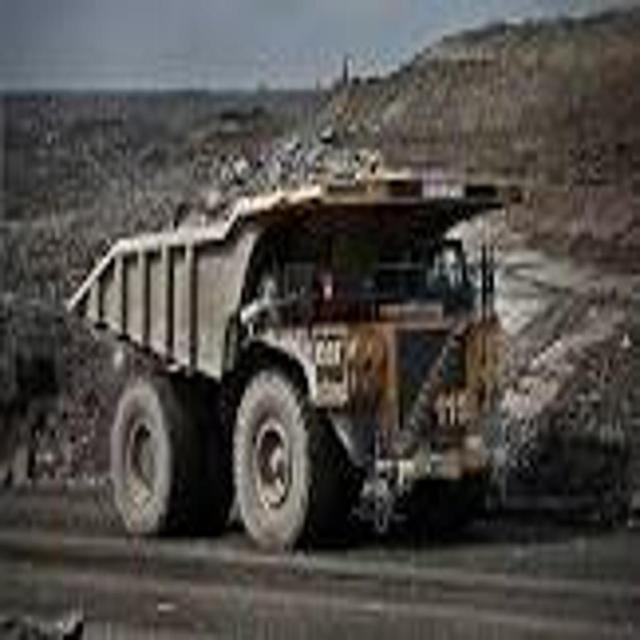dump_truck: (66, 140, 516, 566)
